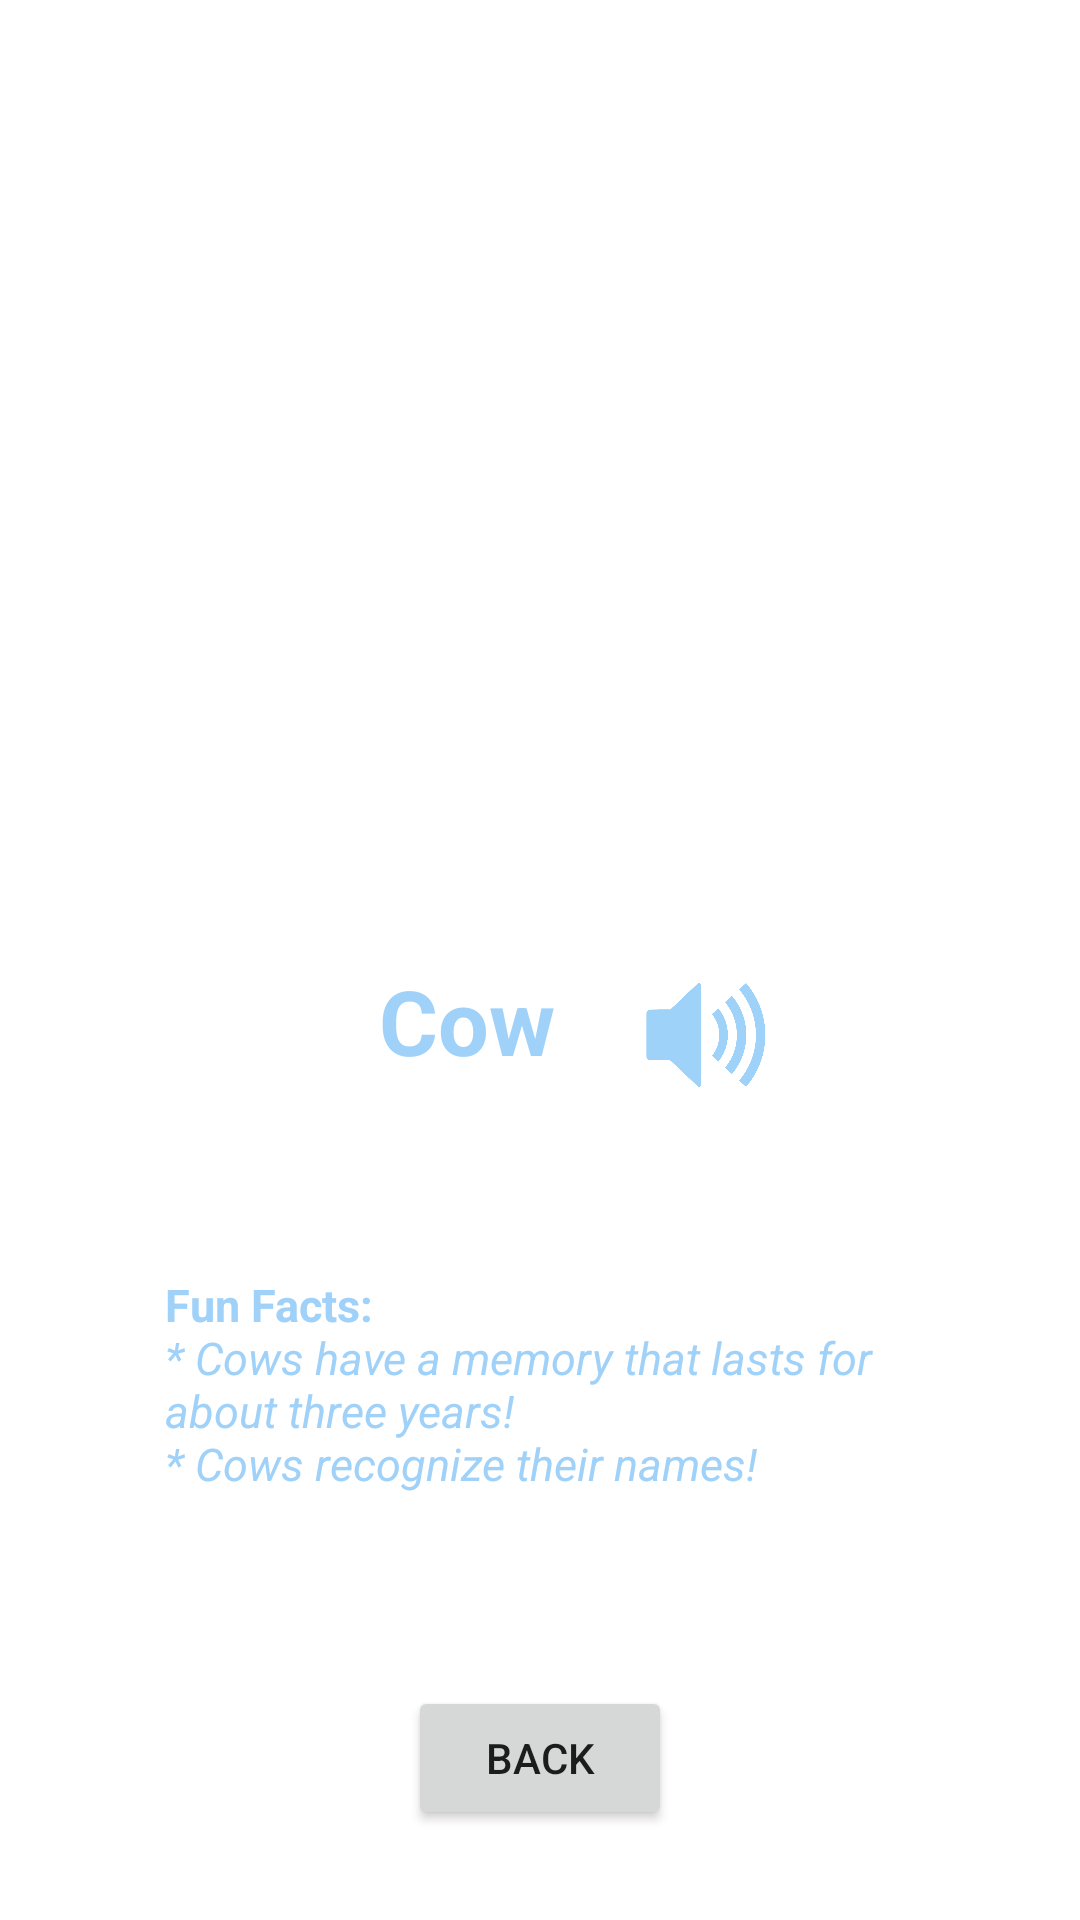

Where to tap for icons on this 1080 × 1920 app screen, as (x,y):
volume: (705,1035)
